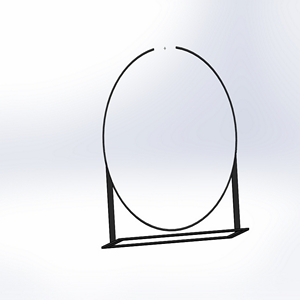circle: (100, 43, 250, 250)
